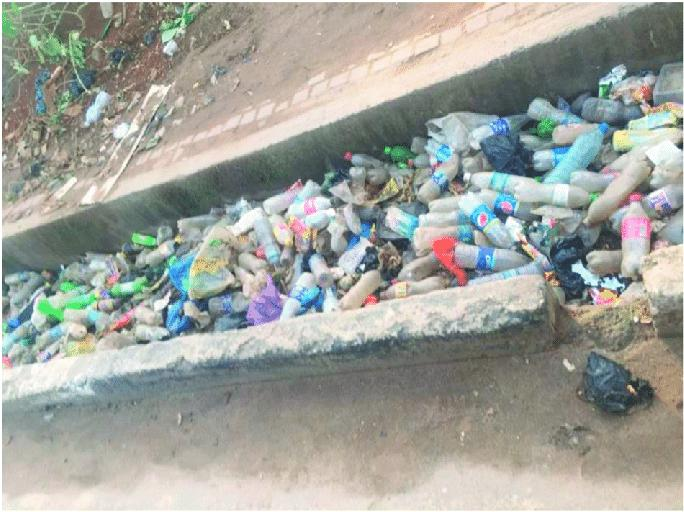Trash: (0, 59, 679, 355)
